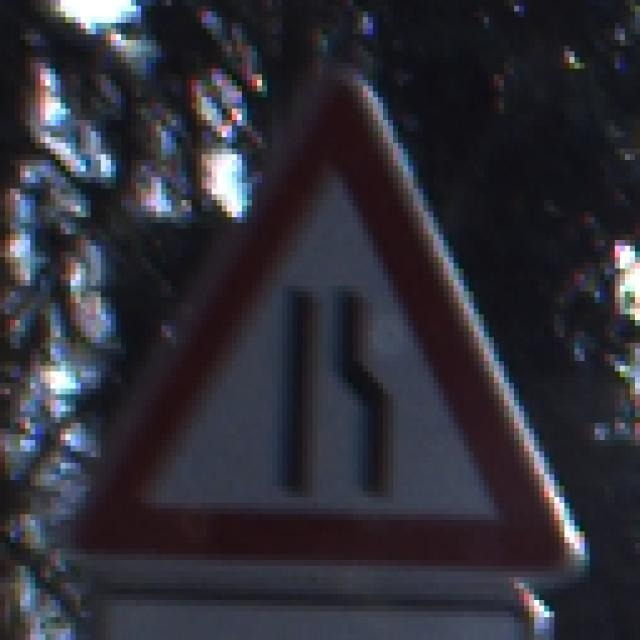narrow road ahead: (51, 63, 613, 591)
